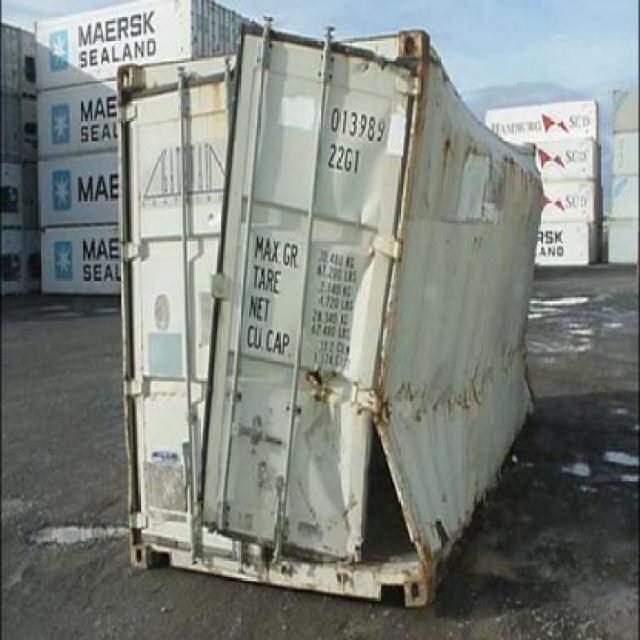dent: (375, 46, 544, 569), (307, 421, 355, 518)
hole: (362, 426, 418, 565), (307, 366, 324, 389)
